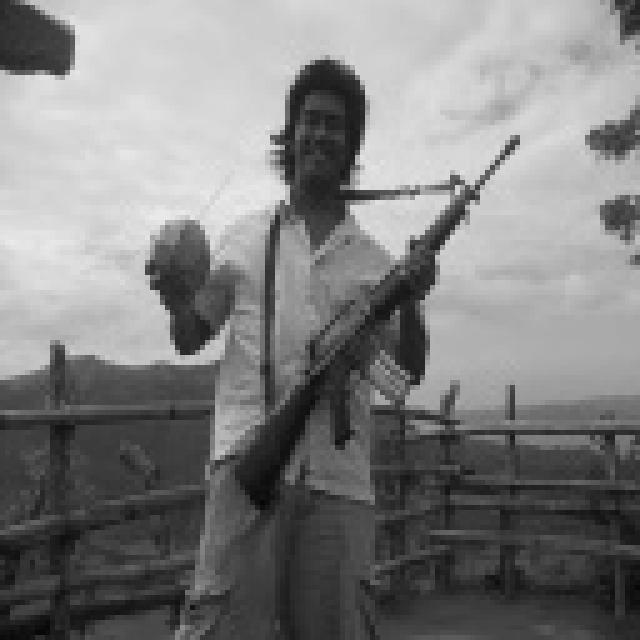Rifle: (219, 122, 533, 528)
